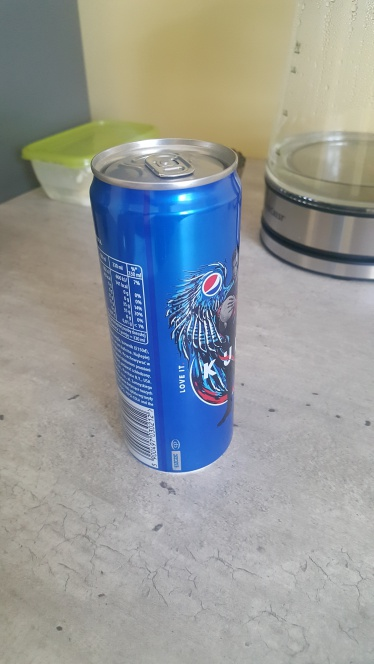pepsi: (83, 129, 247, 480)
